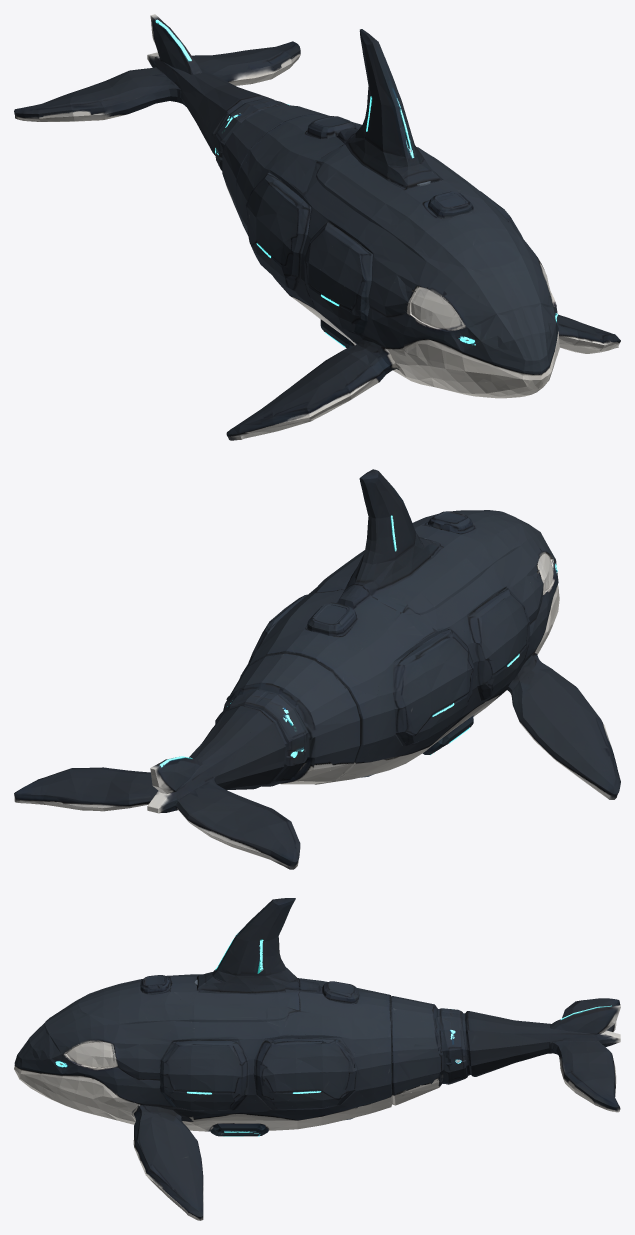
Rendered from orca_hull.glb.
3 views of the same model, one above another, from view 1: azimuth 30°, elevation 25°; view 2: azimuth 150°, elevation 25°; view 3: azimuth 270°, elevation 25° (orthographic). The views are drawn at different scales.
Visible parts, largest first — view 1: orca_hull__panel_head, orca_hull__panel_spine, orca_hull__tail, orca_hull__pectoral_left, orca_hull__panel_tool_left, orca_hull__panel_workshop, orca_hull__dorsal, orca_hull__pectoral_right, orca_hull__panel_belly; view 2: orca_hull__panel_spine, orca_hull__tail, orca_hull__panel_workshop, orca_hull__pectoral_left, orca_hull__panel_tool_left, orca_hull__panel_head, orca_hull__dorsal, orca_hull__panel_belly; view 3: orca_hull__panel_head, orca_hull__panel_spine, orca_hull__pectoral_right, orca_hull__tail, orca_hull__panel_workshop, orca_hull__panel_tool_right, orca_hull__panel_belly, orca_hull__dorsal.
Part boxes in pixels (left/top/right/bottom): orca_hull__panel_head: left=351, top=189, right=559, bottom=398; orca_hull__panel_spine: left=244, top=114, right=516, bottom=268; orca_hull__tail: left=14, top=14, right=300, bottom=134; orca_hull__pectoral_left: left=226, top=235, right=380, bottom=440; orca_hull__panel_tool_left: left=236, top=157, right=361, bottom=292; orca_hull__panel_workshop: left=202, top=88, right=327, bottom=219; orca_hull__dorsal: left=354, top=29, right=426, bottom=175; orca_hull__pectoral_right: left=557, top=314, right=620, bottom=353; orca_hull__panel_belly: left=242, top=223, right=361, bottom=348; orca_hull__panel_spine: left=245, top=526, right=518, bottom=697; orca_hull__tail: left=14, top=722, right=300, bottom=869; orca_hull__panel_workshop: left=206, top=654, right=359, bottom=789; orca_hull__pectoral_left: left=454, top=613, right=620, bottom=799; orca_hull__panel_tool_left: left=351, top=602, right=525, bottom=762; orca_hull__panel_head: left=412, top=510, right=559, bottom=692; orca_hull__dorsal: left=353, top=469, right=429, bottom=584; orca_hull__panel_belly: left=262, top=668, right=521, bottom=786; orca_hull__panel_head: left=14, top=975, right=185, bottom=1124; orca_hull__panel_spine: left=170, top=969, right=394, bottom=1059; orca_hull__pectoral_right: left=133, top=1067, right=292, bottom=1220; orca_hull__tail: left=484, top=998, right=620, bottom=1112; orca_hull__panel_workshop: left=392, top=996, right=502, bottom=1095; orca_hull__panel_tool_right: left=174, top=1040, right=393, bottom=1107; orca_hull__panel_belly: left=174, top=1077, right=467, bottom=1136; orca_hull__dorsal: left=214, top=898, right=298, bottom=990.
Size of the model in its own units: 13.93 by 10.87 by 24.
Materials: 4 (1 with a texture image).
